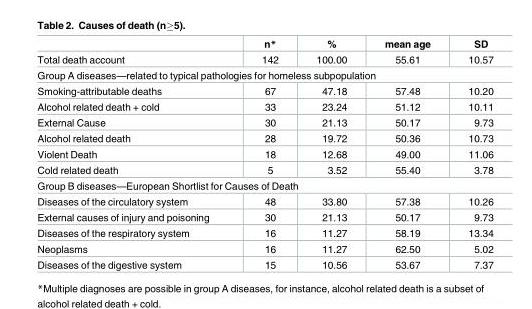table: (36, 37, 492, 269)
table column: (36, 37, 234, 269), (365, 37, 448, 269), (296, 37, 365, 269), (234, 37, 296, 269), (448, 37, 492, 269)
table column header: (36, 37, 492, 51)
table projected row header: (36, 67, 492, 83), (36, 178, 492, 193)
table row: (36, 51, 492, 67), (36, 67, 492, 83), (36, 83, 492, 99), (36, 114, 492, 130), (36, 130, 492, 146), (36, 146, 492, 162), (36, 162, 492, 178), (36, 193, 492, 209), (36, 209, 492, 225), (36, 225, 492, 241), (36, 99, 492, 114), (36, 178, 492, 193), (36, 241, 492, 256), (36, 37, 492, 51), (36, 256, 492, 269)
